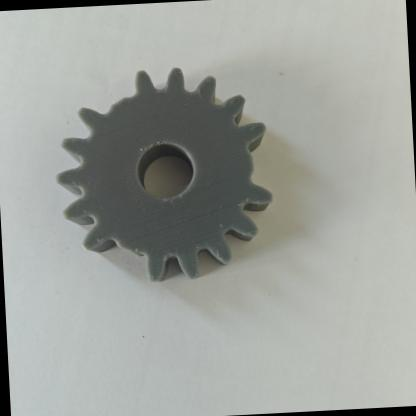defect: (78, 218, 165, 294), (78, 66, 164, 134), (214, 126, 293, 195)
gear: (43, 44, 304, 308)
